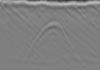hyperbola: (26, 20, 75, 56)
